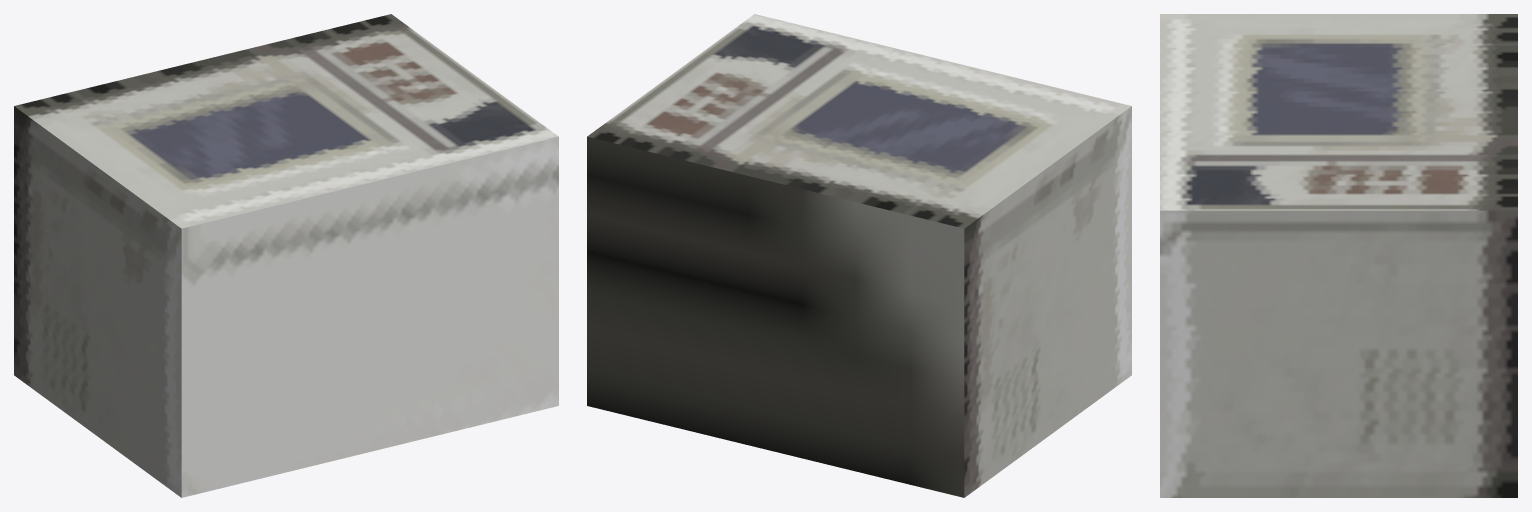
The model's file is pz_g016_white_microwave.obj.
3 renders of one model, left to right at view 1: azimuth 30°, elevation 25°; view 2: azimuth 150°, elevation 25°; view 3: azimuth 270°, elevation 25°, orthographic. The views are drawn at different scales.
Visible parts, largest first — view 1: native_component_0_z+, native_component_0_y+, native_component_0_x-; view 2: native_component_0_z-, native_component_0_y+, native_component_0_x-; view 3: native_component_0_x+, native_component_0_y+.
Part boxes in pixels (left/top/right/bottom): native_component_0_z+: left=181, top=136, right=558, bottom=497; native_component_0_y+: left=14, top=14, right=558, bottom=228; native_component_0_x-: left=14, top=106, right=181, bottom=497; native_component_0_z-: left=587, top=136, right=964, bottom=497; native_component_0_y+: left=587, top=14, right=1131, bottom=228; native_component_0_x-: left=964, top=106, right=1131, bottom=497; native_component_0_x+: left=1160, top=210, right=1517, bottom=497; native_component_0_y+: left=1160, top=14, right=1517, bottom=210.
Bounding box in the file's own units: 0.6382 × 0.4352 × 0.4908.
1 material, 1 textured.
